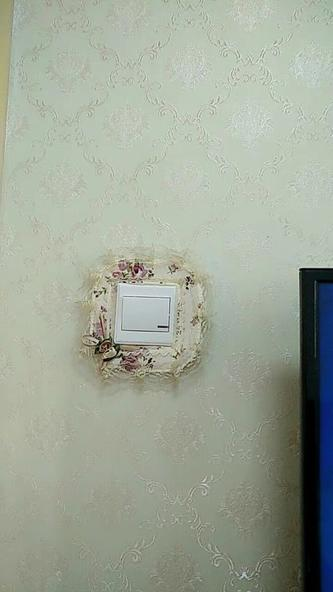switch: (121, 291, 176, 340)
